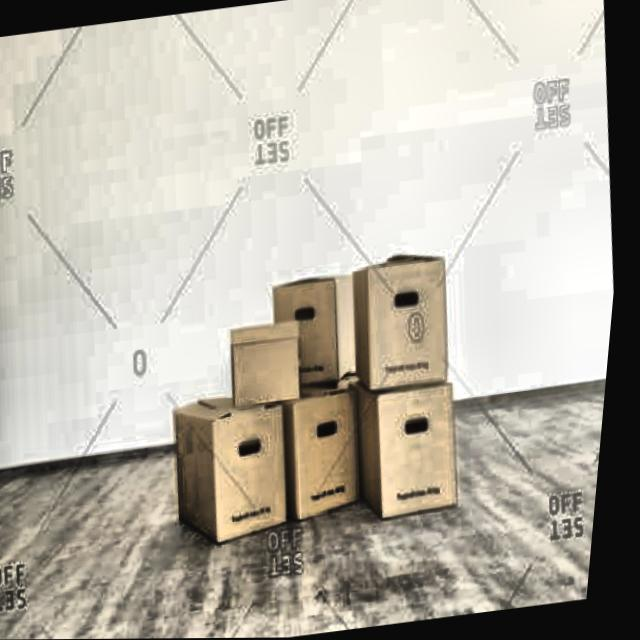Cardbox: (154, 258, 487, 548)
